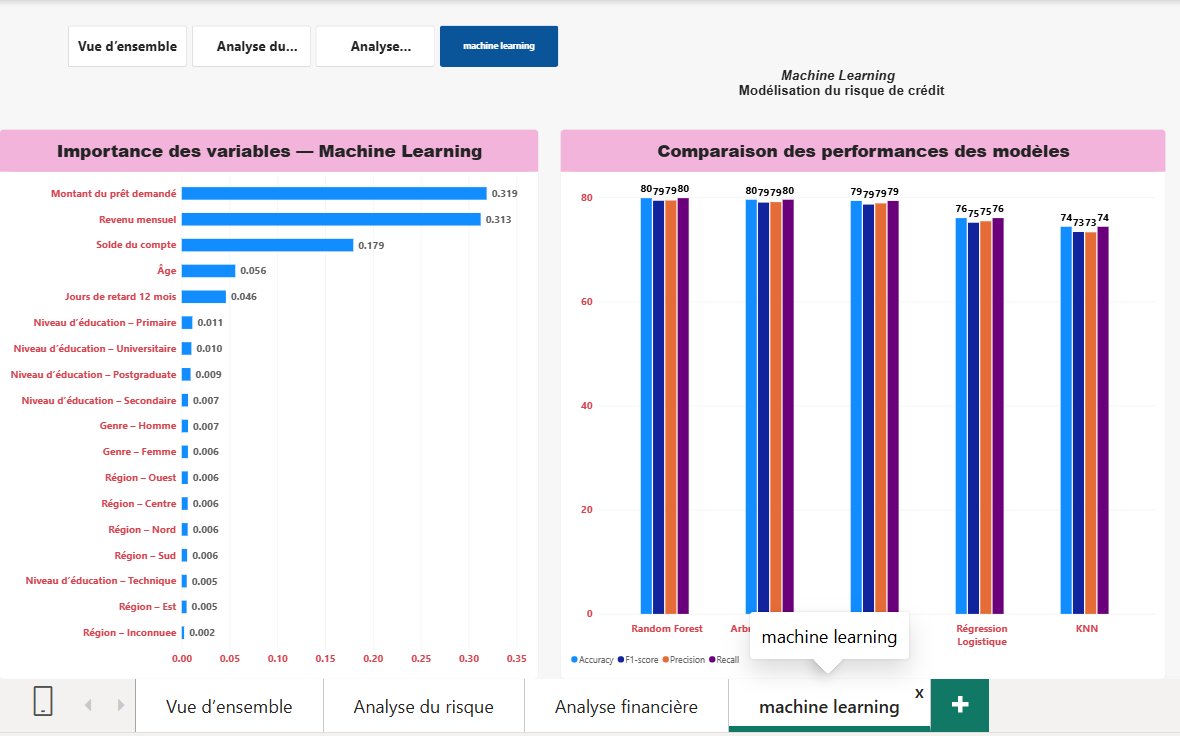

The dashboard page shown, as its layout file describes it:
{"tool":"powerbi","page":{"name":"machine learning","canvas":[1920,1080],"ordinal":3},"visuals":[{"type":"clusteredColumnChart","title":"Comparaison des performances des modèles","fields":{"Category":["comparaison_modeles_machine_learning.Modèle"],"Series":["comparaison_modeles_machine_learning.Métrique"],"Y":["Sum(comparaison_modeles_machine_learning.Score)"]},"box":[892.3,205.2,963.9,875.6],"z":0},{"type":"clusteredBarChart","title":"Importance des variables — Machine Learning","fields":{"Category":["importance_variables_random_forest.Variable"],"Y":["Sum(importance_variables_random_forest.Importance)"]},"box":[0,205.2,858.9,875.6],"z":1},{"type":"pageNavigator","box":[109.8,40.6,782.6,66.8],"z":2},{"type":"textbox","box":[858.9,107.4,956.8,71.6],"z":3}]}

Visuals, with their boxes on the page's 1920x1080 design canvas (x1, y1, x2, y2). These are canvas units, not pixel positions in the 1180x736 screenshot, which may show the page scaled, cropped or inside an application window:
"Comparaison des performances des modèles" clusteredColumnChart: {"left": 892, "top": 205, "right": 1856, "bottom": 1081}
"Importance des variables — Machine Learning" clusteredBarChart: {"left": 0, "top": 205, "right": 859, "bottom": 1081}
pageNavigator: {"left": 110, "top": 41, "right": 892, "bottom": 107}
textbox: {"left": 859, "top": 107, "right": 1816, "bottom": 179}
